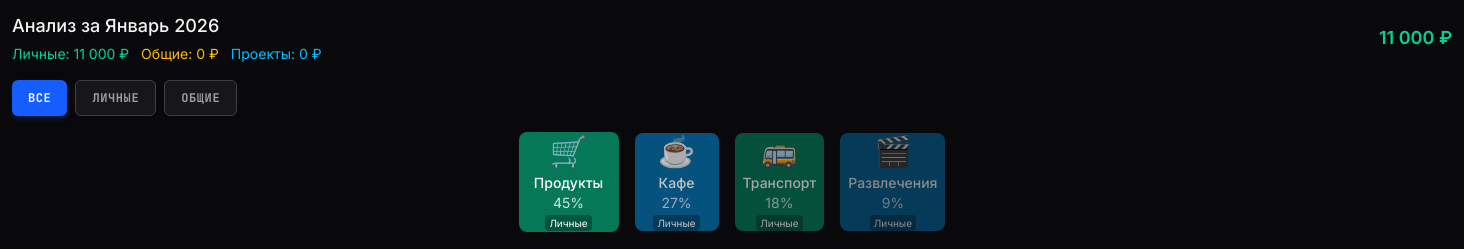
Test: AnalysisDashboard › tooltip interactions › shows tooltip on mouse enter
Hover over the element showing "🛒 Продукты 45% Личные": coordinates (568, 182) [518,132,618,232]
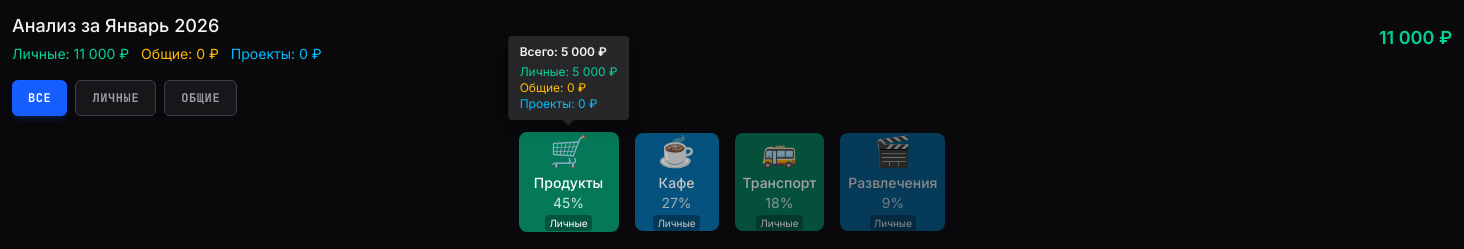
Expected: the text with test id "analysis-tooltip-total-Продукты" reads "Всего: 5 000 ₽", [520,44,617,60]
Expected: the text with test id "analysis-tooltip-personal-Продукты" reads "Личные: 5 000 ₽", [520,64,617,80]
Expected: the text with test id "analysis-tooltip-project-Продукты" reads "Проекты: 0 ₽", [520,96,597,111]
